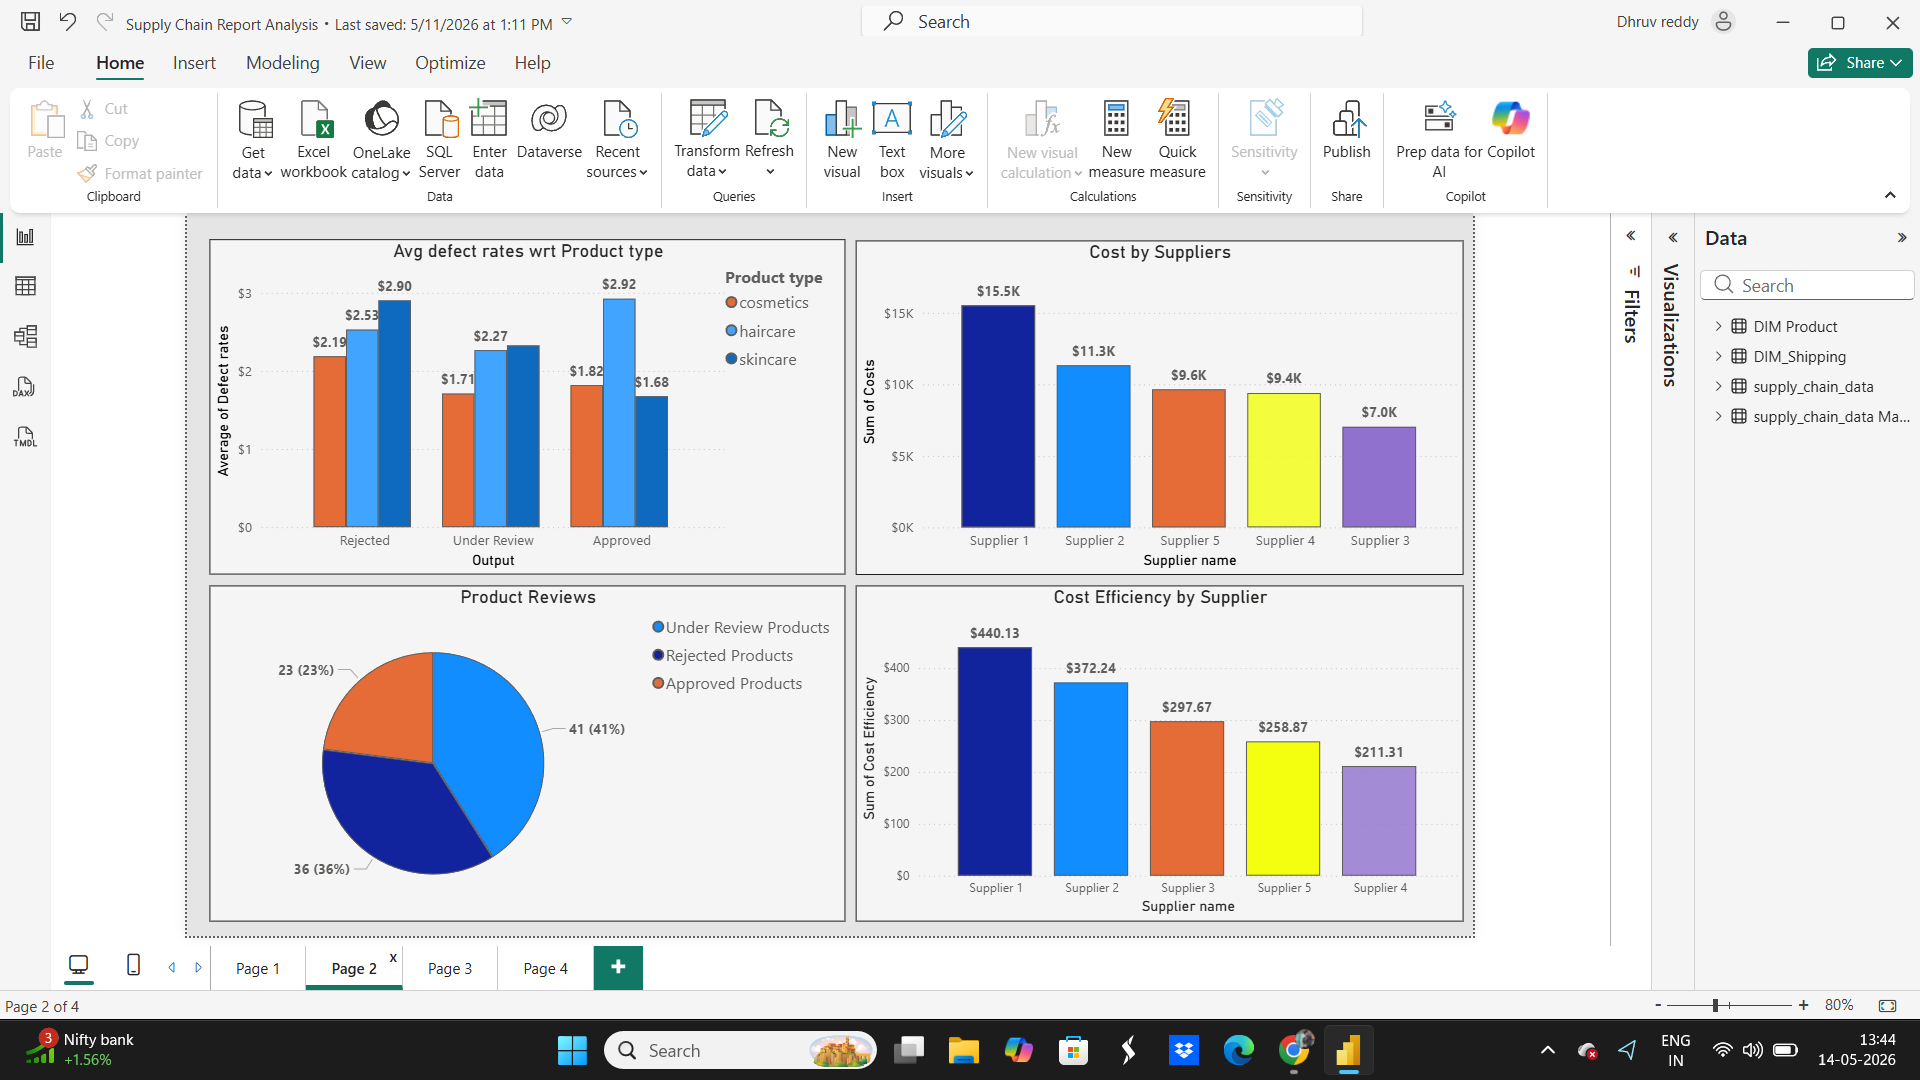

This screenshot's page, from the dashboard's own definition file:
{"tool":"powerbi","page":{"name":"Page 2","canvas":[1280,720],"ordinal":1},"visuals":[{"type":"clusteredColumnChart","title":"Avg defect rates wrt Product type","fields":{"Category":["supply_chain_data.Output"],"Y":["Avg(supply_chain_data.Defect rates)"],"Series":["supply_chain_data.Product type"]},"box":[21.8,26.5,633.1,333.7],"z":0},{"type":"pieChart","title":"Product Reviews ","fields":{"Y":["supply_chain_data.Under Review Products","supply_chain_data.Rejected Products","supply_chain_data.Approved Products"]},"box":[22,371,633,334],"z":1000},{"type":"clusteredColumnChart","title":"Cost by Suppliers","fields":{"Category":["supply_chain_data.Supplier name"],"Y":["Sum(supply_chain_data.Costs)"]},"box":[665.4,27.2,604.5,332.7],"z":2000},{"type":"clusteredColumnChart","title":"Cost Efficiency by Supplier ","fields":{"Y":["Sum(supply_chain_data.Cost Efficiency)"],"Category":["supply_chain_data.Supplier name"]},"box":[665,371,605,334],"z":2001}]}

Visuals, with their boxes on the page's 1280x720 design canvas (x1, y1, x2, y2). These are canvas units, not pixel positions in the 1920x1080 screenshot, which may show the page scaled, cropped or inside an application window:
"Avg defect rates wrt Product type" clusteredColumnChart: locate(22, 26, 655, 360)
"Product Reviews " pieChart: locate(22, 371, 655, 705)
"Cost by Suppliers" clusteredColumnChart: locate(665, 27, 1270, 360)
"Cost Efficiency by Supplier " clusteredColumnChart: locate(665, 371, 1270, 705)
